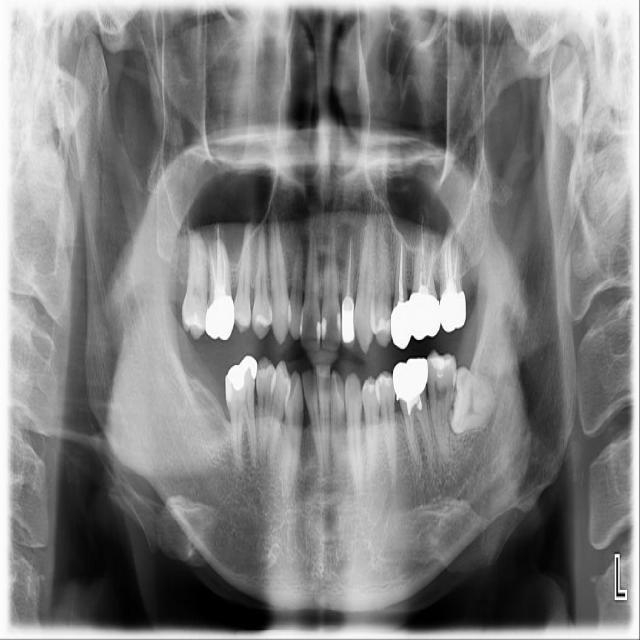52: (388, 291, 443, 349), (219, 352, 259, 417), (392, 357, 428, 409), (368, 291, 395, 348), (425, 347, 457, 393), (204, 295, 235, 341), (320, 298, 342, 352), (374, 370, 399, 417), (300, 298, 321, 351), (440, 292, 466, 333), (252, 293, 273, 340), (340, 297, 356, 347), (361, 376, 379, 419)
73: (409, 210, 439, 302), (401, 397, 439, 466), (205, 221, 233, 310), (440, 215, 463, 299), (393, 232, 412, 311), (341, 234, 356, 306), (623, 606, 629, 615)
BioHorizons Implant: (440, 213, 467, 333)
Biomet 3i Implant: (446, 365, 499, 438)
Blue Sky Bio Implant: (424, 348, 457, 465)
Caries: (180, 226, 213, 340)
